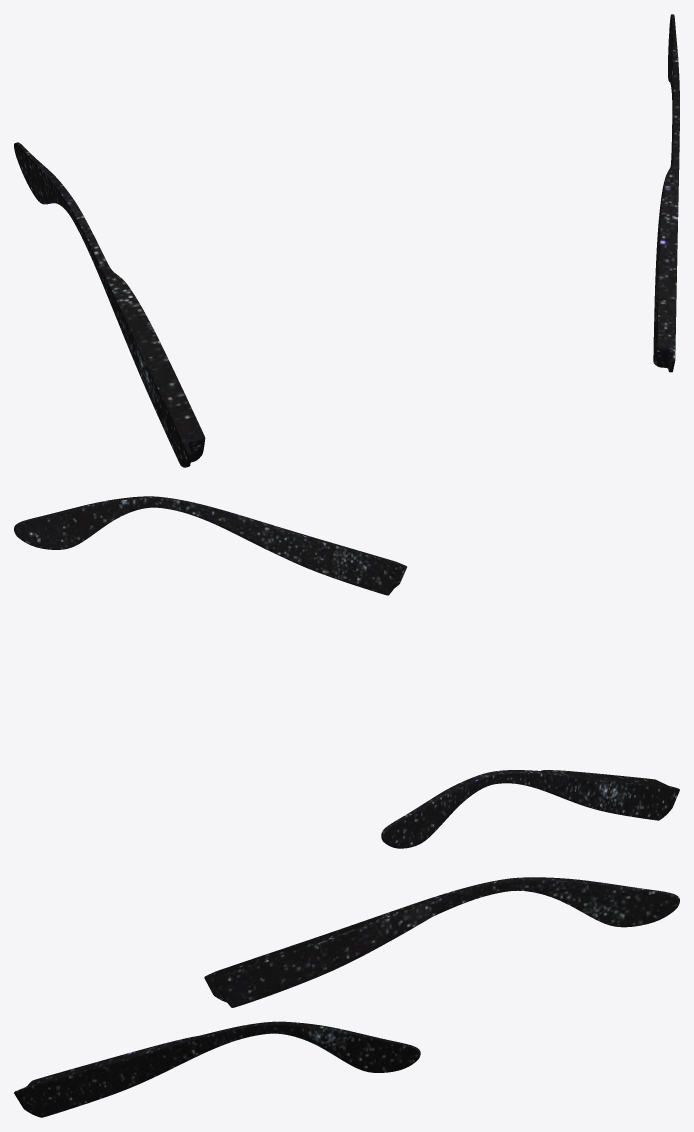
Rendered from rama.obj.
The picture shows the model from 3 angles, top to bottom: view 1: azimuth 30°, elevation 25°; view 2: azimuth 150°, elevation 25°; view 3: azimuth 270°, elevation 25°; orthographic projection. The views are drawn at different scales.
Parts seen in each view (by area): view 1: Line007, Line006; view 2: Line006, Line007; view 3: Line007, Line006.
Part boxes in pixels (bbox=[...]): Line007: bbox=[14, 142, 205, 467]; Line006: bbox=[653, 14, 679, 372]; Line006: bbox=[14, 496, 406, 595]; Line007: bbox=[381, 770, 679, 848]; Line007: bbox=[204, 877, 679, 1007]; Line006: bbox=[14, 1021, 420, 1117].
Bounding box in the file's own units: 0.0533 × 0.0206 × 0.053.
1 material, 1 textured.
